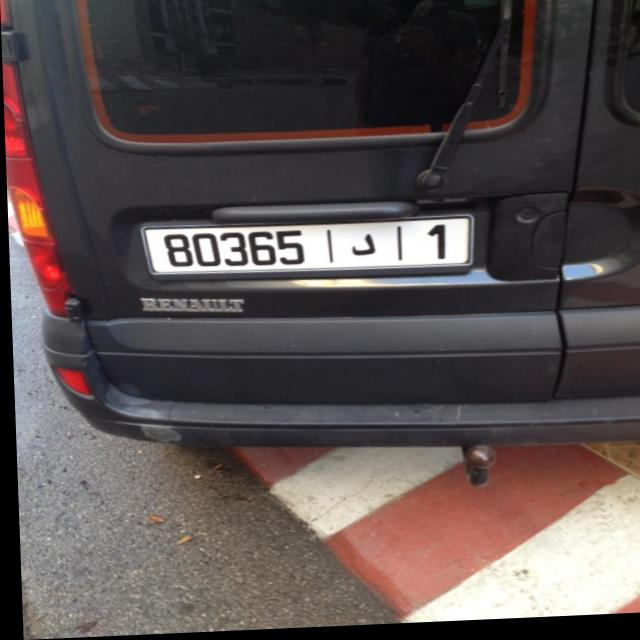License-Plate: (140, 219, 471, 277)
